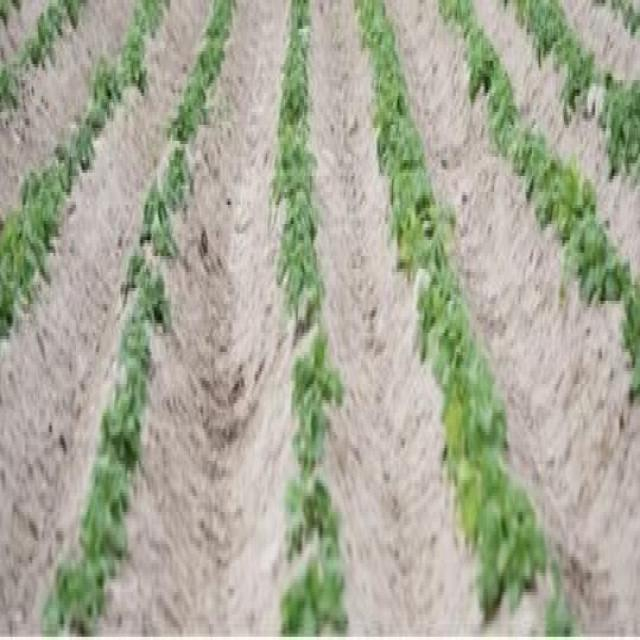row: (313, 2, 503, 640), (110, 4, 291, 640)
